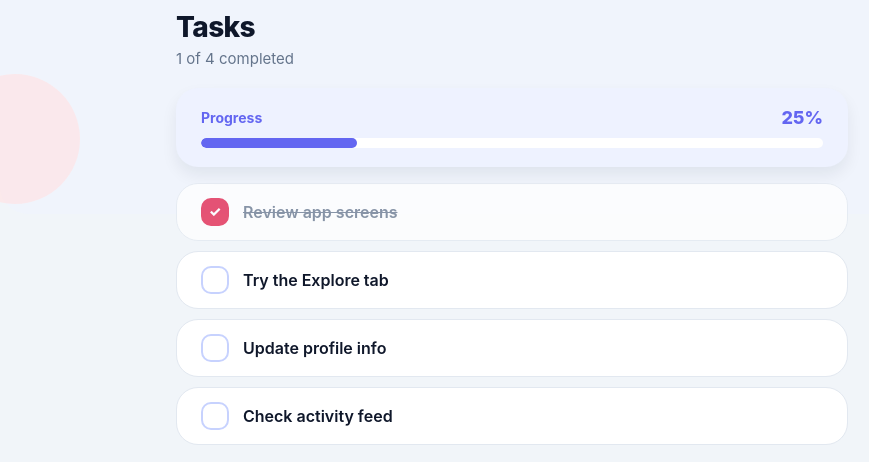
Scenario: TasksScreen › handles rapid repeated clicks on the same task
This screenshot has width=869, height=462.
Click the button "Update profile info" at (512, 348), box [176,319,848,377]
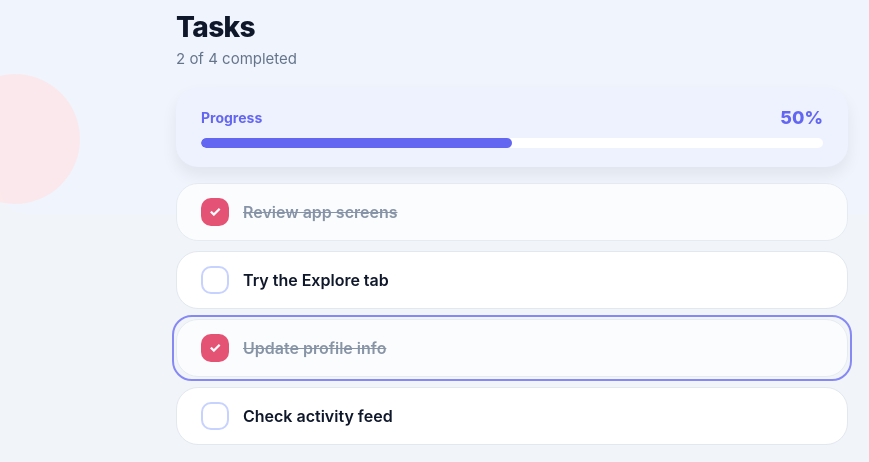
Click the button "✓ Update profile info" at (512, 348), box [176,319,848,377]
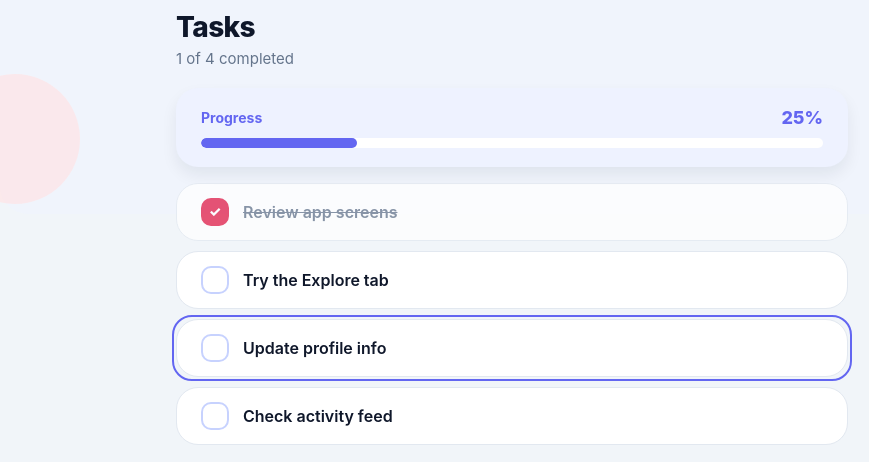
Click the button "Update profile info" at (512, 348), box [176,319,848,377]
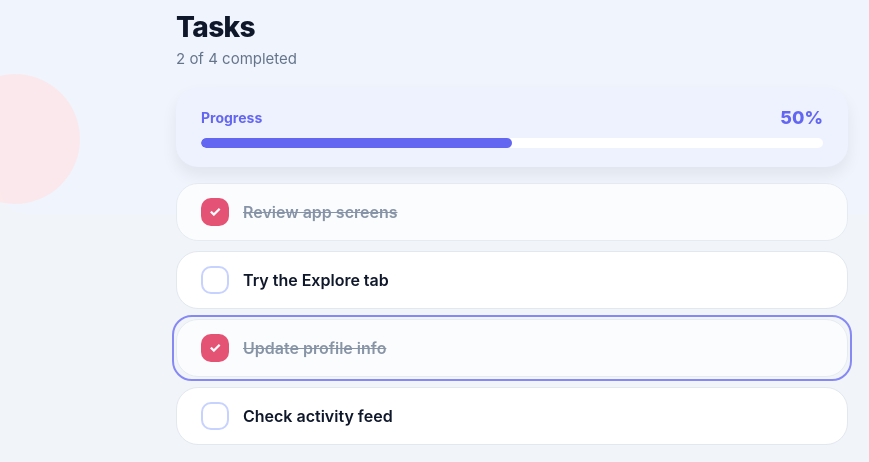
Expected: the text "2 of 4 completed" is shown, [176,49,297,68]
